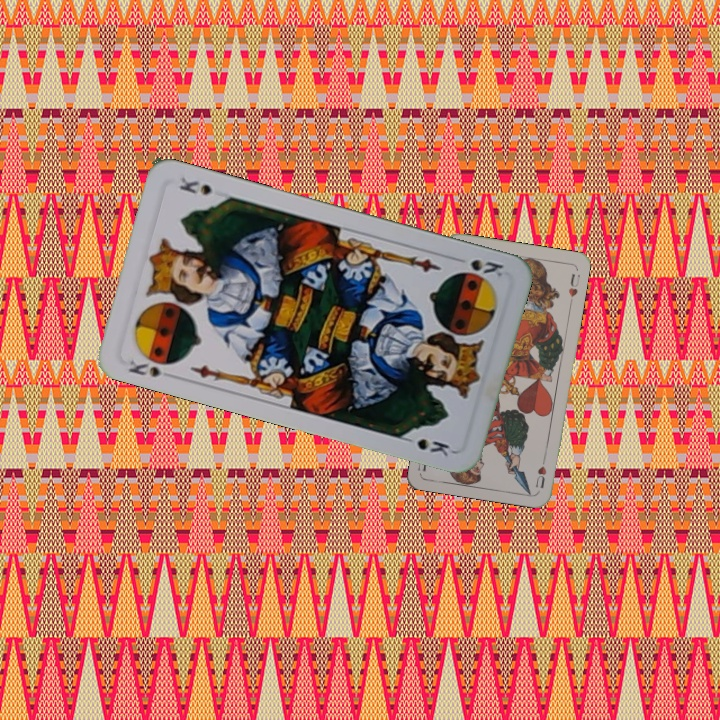HU: (531, 452, 549, 491)
SK: (450, 253, 506, 281), (124, 356, 164, 380)
